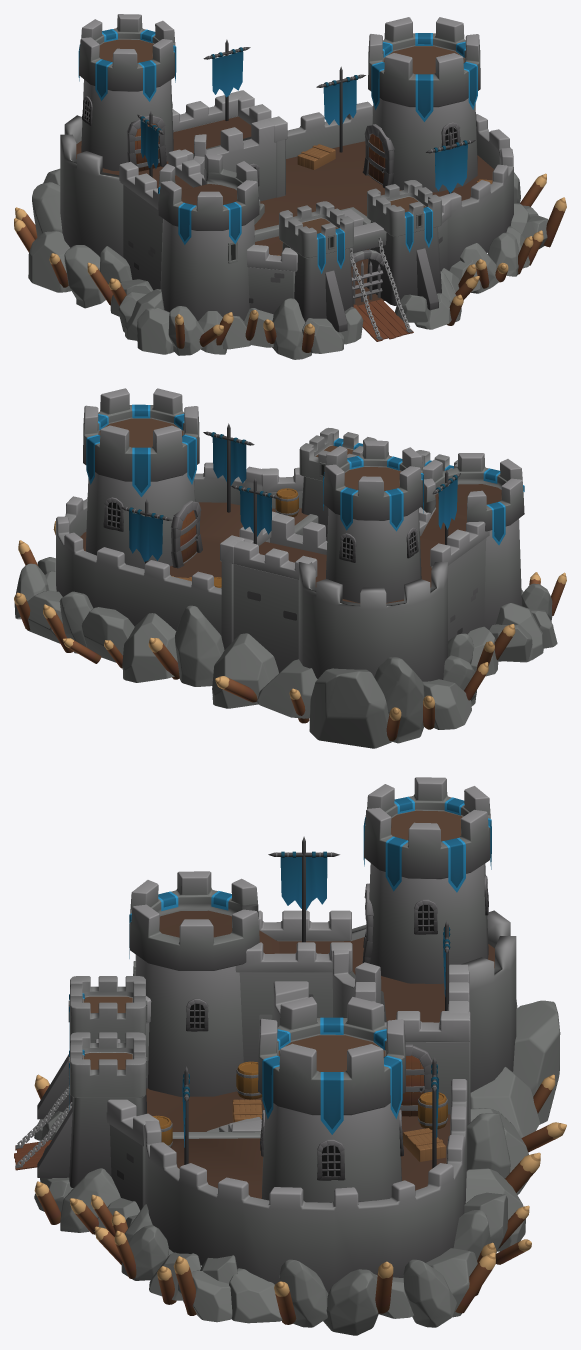
Rendered from MainCastle_2.fbx.
The picture shows the model from 3 angles, top to bottom: view 1: azimuth 30°, elevation 25°; view 2: azimuth 150°, elevation 25°; view 3: azimuth 270°, elevation 25°; orthographic projection. The views are drawn at different scales.
Parts seen in each view (by area): view 1: MainCastle_2; view 2: MainCastle_2; view 3: MainCastle_2.
Boxes of the visible parts, x1=… form: MainCastle_2: x1=14, y1=14, x2=566, y2=359; MainCastle_2: x1=14, y1=388, x2=566, y2=748; MainCastle_2: x1=14, y1=777, x2=566, y2=1335.
Bounding box in the file's own units: 1503 × 757 × 1197.
